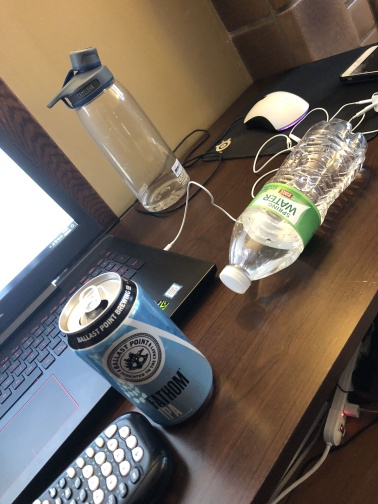bottle: (215, 117, 369, 297)
can: (54, 268, 217, 432)
